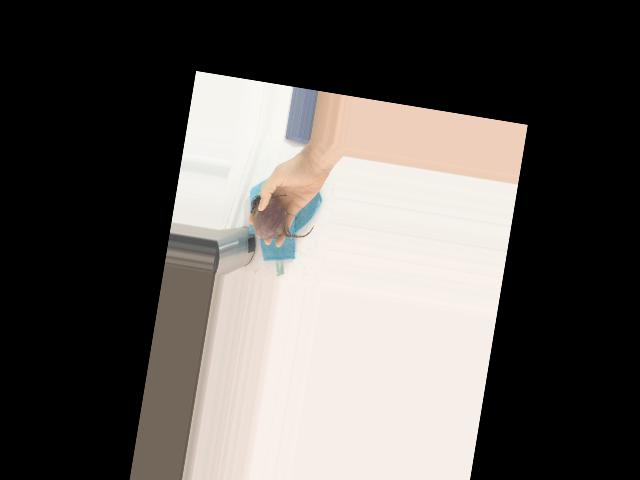beet: (246, 190, 318, 246)
